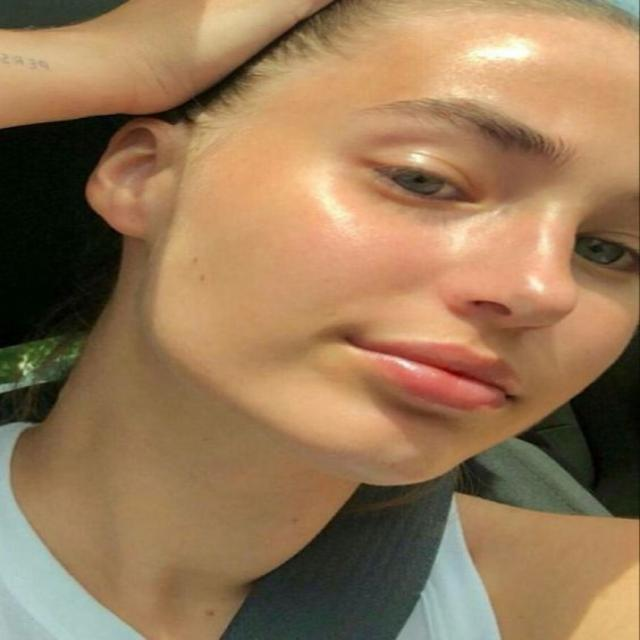oily: (236, 140, 391, 276), (503, 174, 599, 338), (417, 36, 640, 91), (406, 212, 518, 276)
